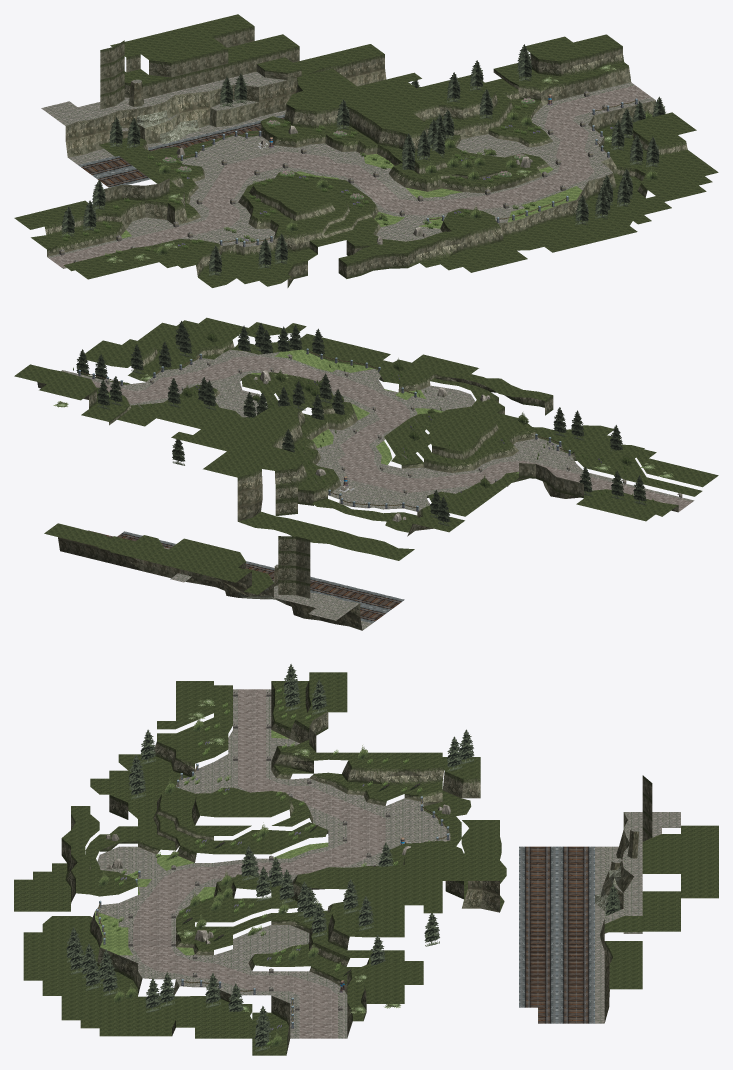
Rendered from West3.obj.
3 renders of one model, top to bottom at view 1: azimuth 30°, elevation 25°; view 2: azimuth 150°, elevation 25°; view 3: azimuth 270°, elevation 25°, orthographic. The views are drawn at different scales.
Parts seen in each view (by area): view 1: Object.15, Object.13, Object.14, Object.209, Object.229, Object.232, Object.240, Object.247, Object.228, Object.251, Object.230, Object.217 (+107 smaller); view 2: Object.209, Object.233, Object.237, Object.232, Object.251, Object.259, Object.227, Object.137, Object.205, Object.240, Object.229, Object.163 (+66 smaller); view 3: Object.134, Object.135, Object.136, Object.137, Object.138, Object.240, Object.233, Object.209, Object.247, Object.217, Object.230, Object.227 (+72 smaller).
Part boxes in pixels (x1=…): Object.15: x1=171, y1=49, x2=245, y2=127; Object.13: x1=114, y1=60, x2=180, y2=144; Object.14: x1=228, y1=50, x2=301, y2=120; Object.209: x1=303, y1=75, x2=387, y2=108; Object.229: x1=524, y1=218, x2=608, y2=252; Object.232: x1=333, y1=95, x2=425, y2=146; Object.240: x1=291, y1=185, x2=372, y2=228; Object.247: x1=204, y1=20, x2=292, y2=69; Object.228: x1=586, y1=200, x2=657, y2=238; Object.251: x1=147, y1=30, x2=227, y2=62; Object.230: x1=412, y1=227, x2=498, y2=272; Object.217: x1=467, y1=220, x2=543, y2=265; Object.209: x1=211, y1=433, x2=284, y2=469; Object.233: x1=390, y1=427, x2=469, y2=464; Object.237: x1=253, y1=450, x2=338, y2=527; Object.232: x1=230, y1=407, x2=312, y2=452; Object.251: x1=160, y1=538, x2=239, y2=569; Object.259: x1=642, y1=462, x2=718, y2=496; Object.227: x1=586, y1=449, x2=662, y2=482; Object.137: x1=334, y1=586, x2=404, y2=623; Object.205: x1=173, y1=400, x2=251, y2=432; Object.240: x1=406, y1=412, x2=500, y2=434; Object.229: x1=315, y1=340, x2=390, y2=367; Object.163: x1=391, y1=385, x2=470, y2=412; Object.134: x1=519, y1=975, x2=594, y2=1007; Object.135: x1=519, y1=943, x2=594, y2=975; Object.136: x1=519, y1=911, x2=594, y2=943; Object.137: x1=519, y1=846, x2=594, y2=878; Object.138: x1=519, y1=878, x2=594, y2=910; Object.240: x1=157, y1=801, x2=251, y2=850; Object.233: x1=233, y1=801, x2=327, y2=846; Object.209: x1=386, y1=855, x2=480, y2=888; Object.247: x1=623, y1=874, x2=699, y2=932; Object.217: x1=14, y1=878, x2=90, y2=932; Object.230: x1=14, y1=846, x2=98, y2=895; Object.227: x1=157, y1=713, x2=232, y2=749.
Size of the model in its own units: 173 by 28 by 148.
